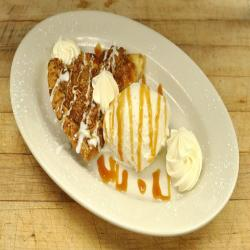apple_pie: (44, 47, 153, 160)
icecream: (102, 81, 205, 197)
